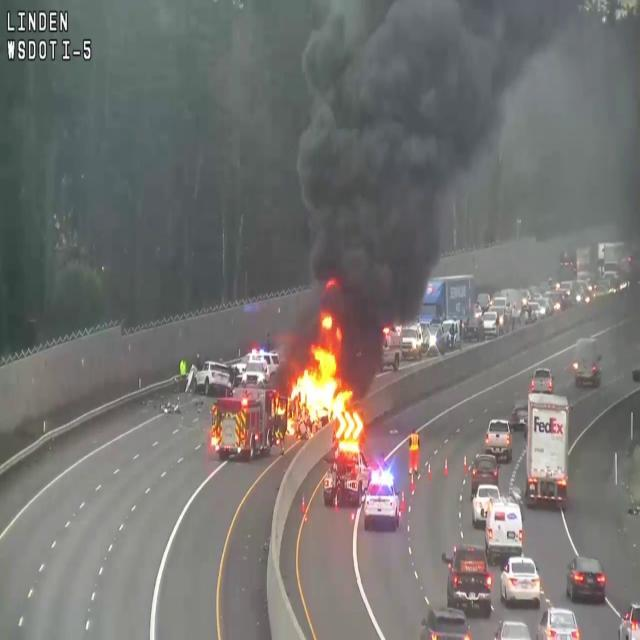Fire: (280, 337, 353, 425)
Smoke: (266, 0, 638, 327)
